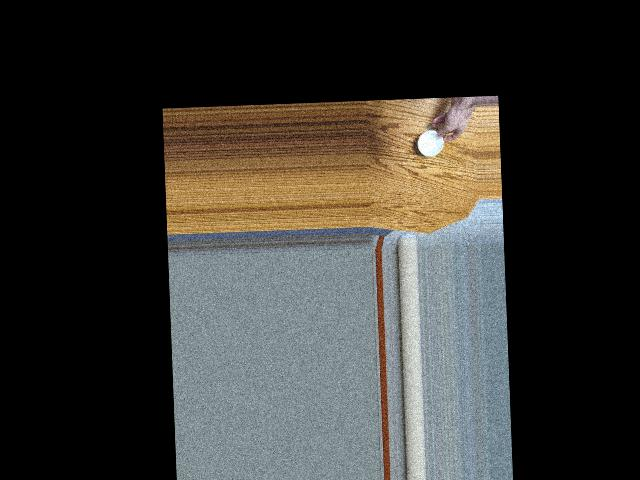cotage: (415, 129, 447, 157)
